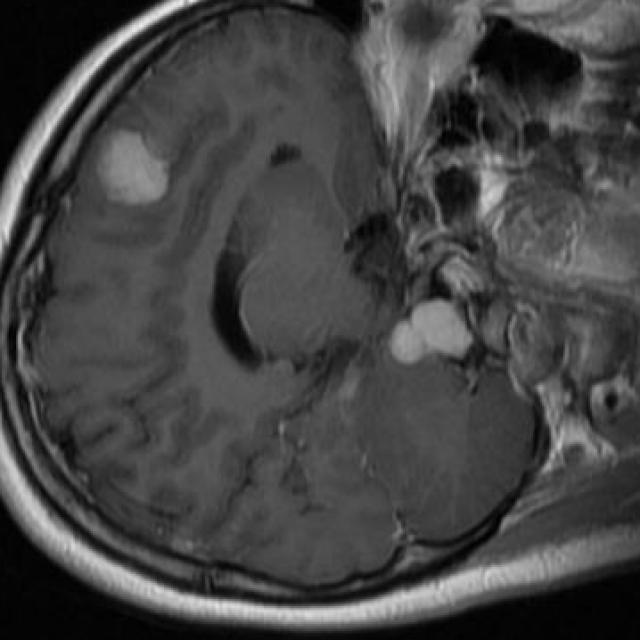meningioma: (100, 134, 168, 205)
